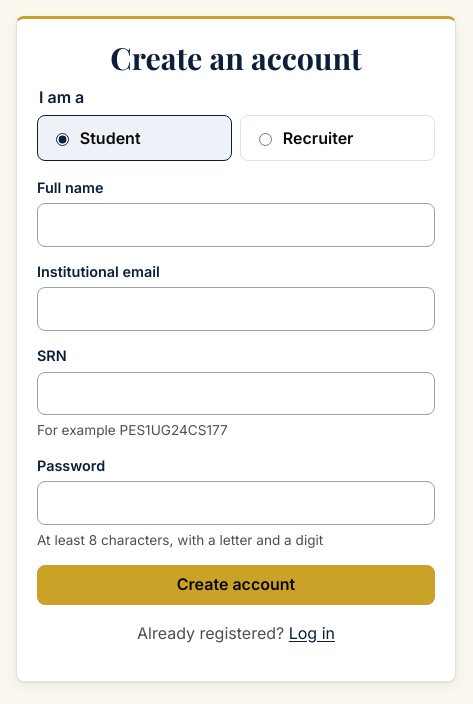
Test: Register › validates the SRN on blur and hides it for recruiters
Step 1. Type "PES3UG24CS177" into the field labelled "SRN" → (236, 394), box [37, 372, 435, 415]
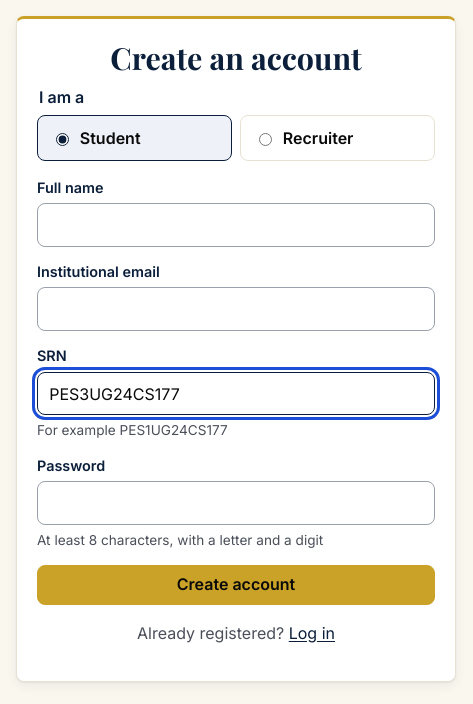
Step 2. Press Tab
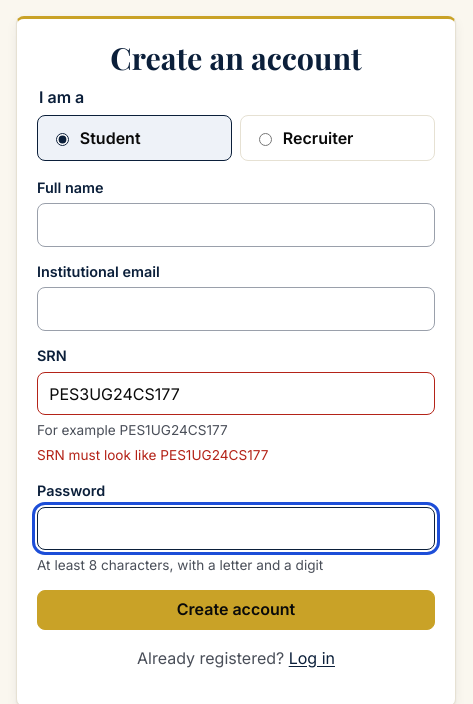
expect the text "SRN must look like PES1UG24CS177" is shown: met, box [37, 447, 268, 463]
Step 3. Click the radio button labelled "Recruiter" → (265, 140), box [259, 133, 272, 146]
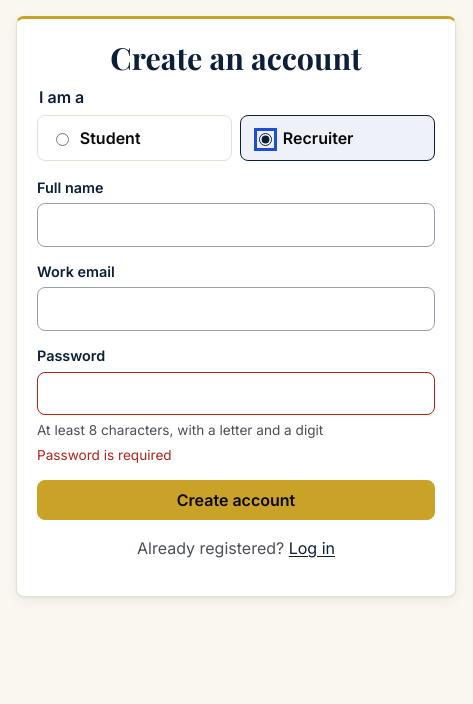
expect the label labelled "SRN" is gone: met
